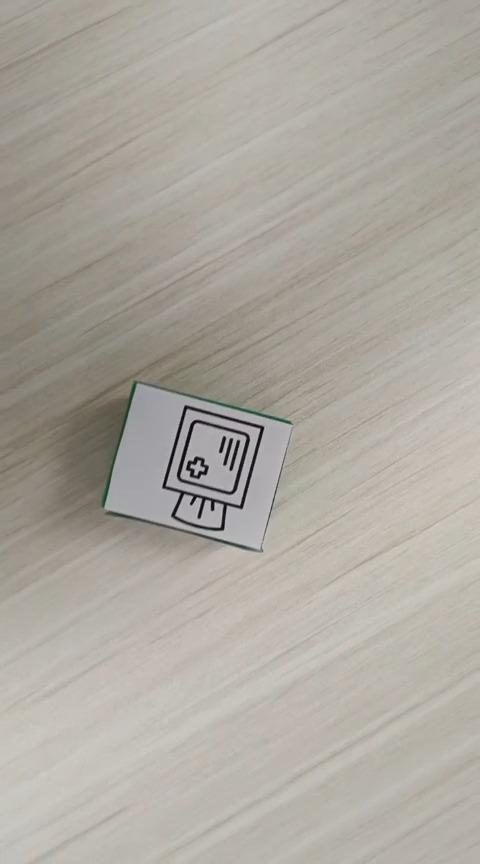Gauze: (101, 378, 294, 552)
